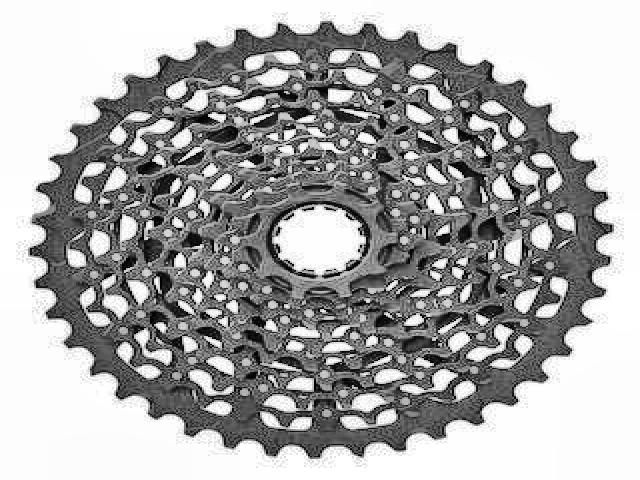cassette: (32, 19, 613, 460)
